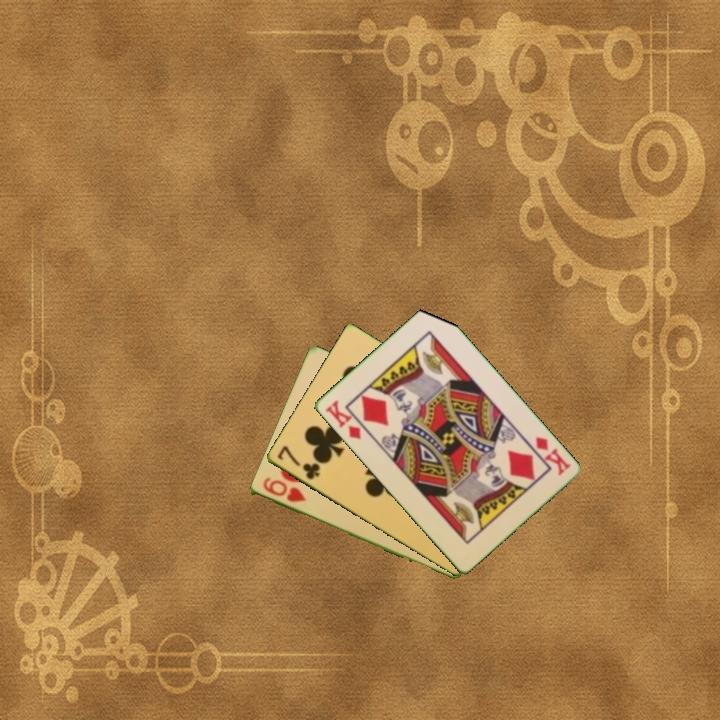6h: (259, 474, 309, 505)
7c: (273, 442, 323, 483)
Kd: (321, 396, 364, 443), (531, 433, 573, 478)
